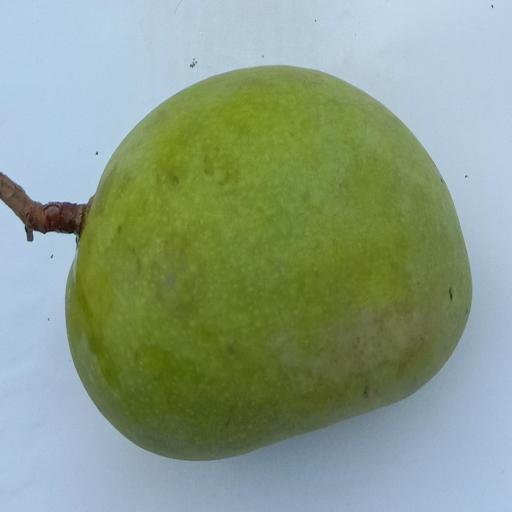mango-unripe: (35, 38, 490, 483)
